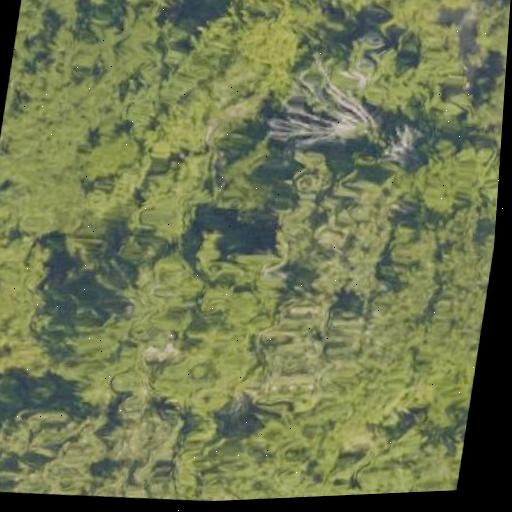tree-top: (95, 227, 278, 425), (261, 141, 399, 302), (399, 238, 494, 421), (356, 15, 476, 124), (199, 0, 322, 96), (0, 404, 113, 501), (394, 126, 502, 225), (123, 152, 209, 248), (0, 223, 56, 369), (353, 434, 465, 495), (461, 65, 506, 146), (466, 0, 511, 68), (314, 0, 412, 21), (101, 0, 186, 13)
